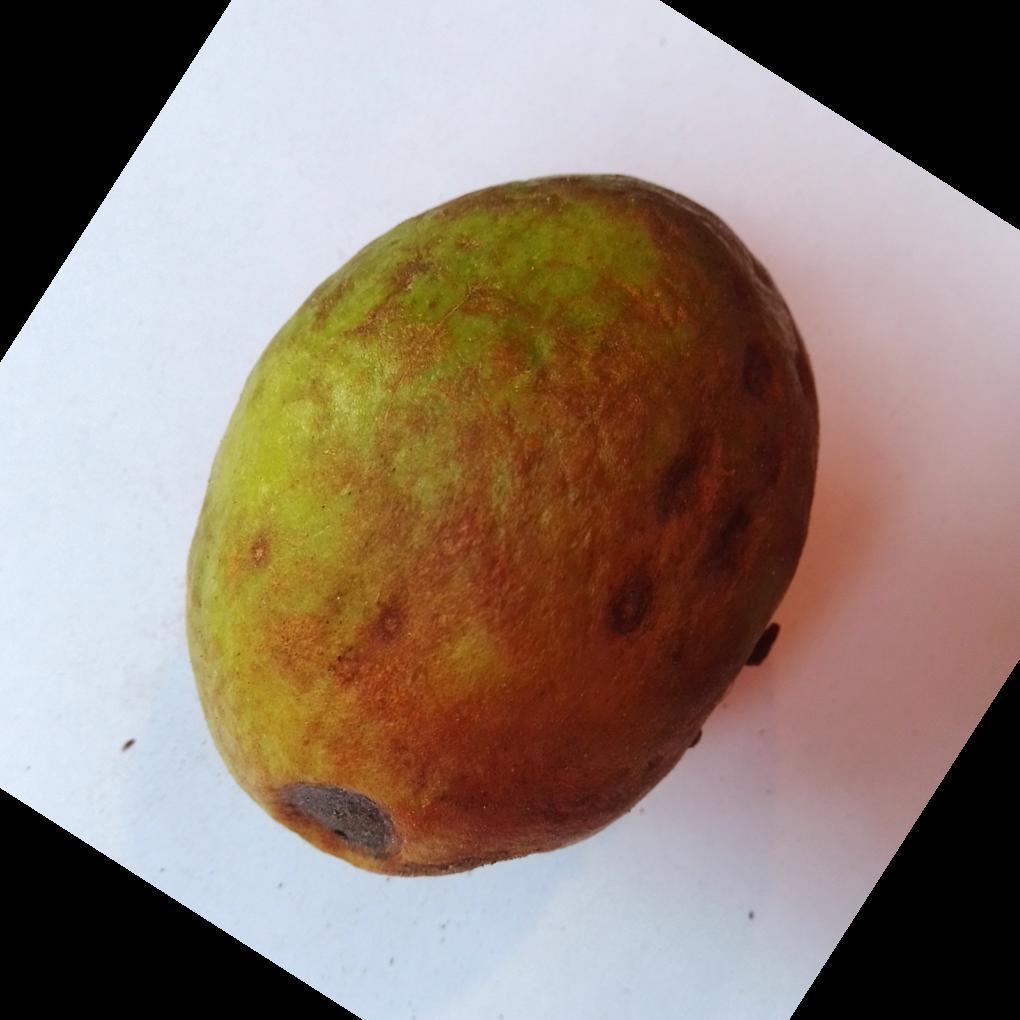FreshOrange: (183, 174, 821, 882)
